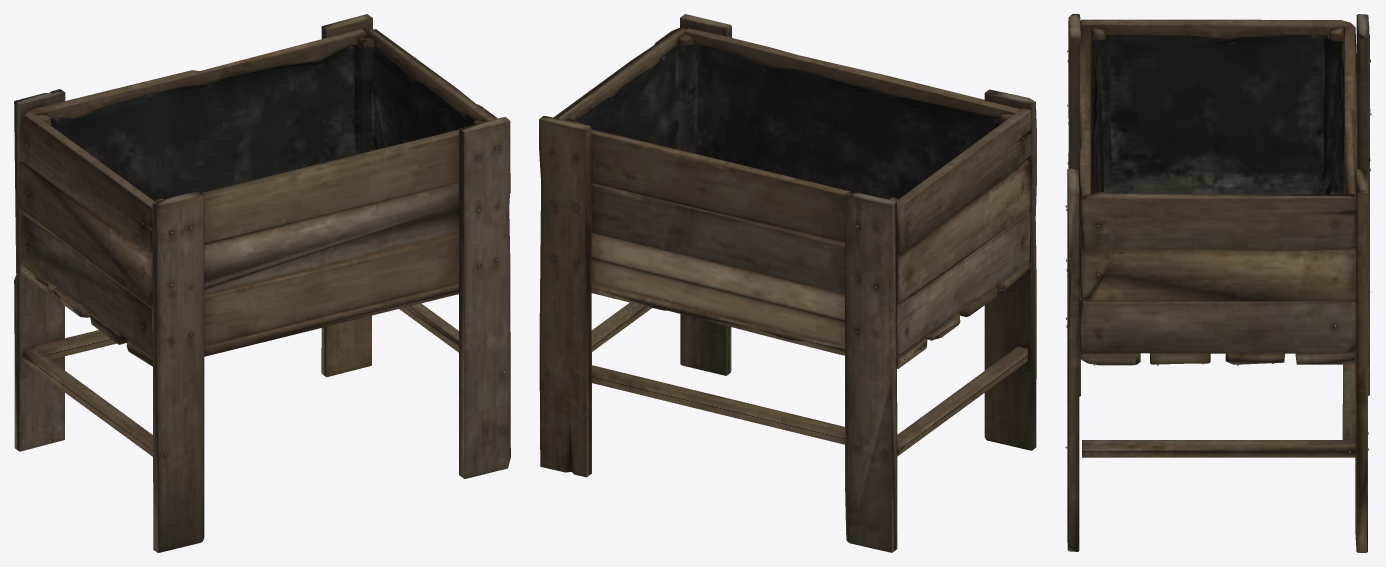
Rendered from planter_box_03.glb.
3 views of the same model, side by side, from view 1: azimuth 30°, elevation 25°; view 2: azimuth 150°, elevation 25°; view 3: azimuth 270°, elevation 25° (orthographic). The views are drawn at different scales.
Visible parts, largest first — view 1: planter_box_03; view 2: planter_box_03; view 3: planter_box_03.
Part boxes in pixels (<box>): planter_box_03: <box>14,14,510,552</box>; planter_box_03: <box>539,14,1036,552</box>; planter_box_03: <box>1065,14,1371,552</box>.
Size of the model in its own units: 0.914 by 0.8551 by 0.6555.
1 material, 1 textured.
